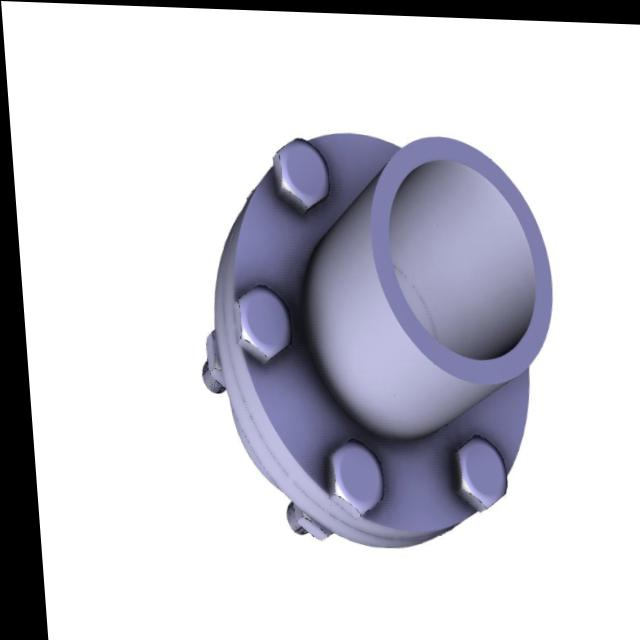Regular bolt: (318, 435, 381, 520), (229, 282, 287, 360), (271, 134, 331, 207), (447, 434, 502, 507)
